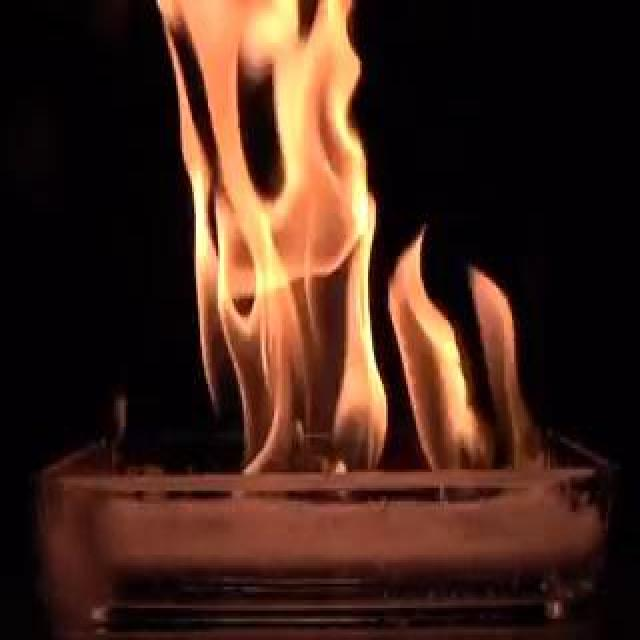Fire: (267, 90, 393, 482)
